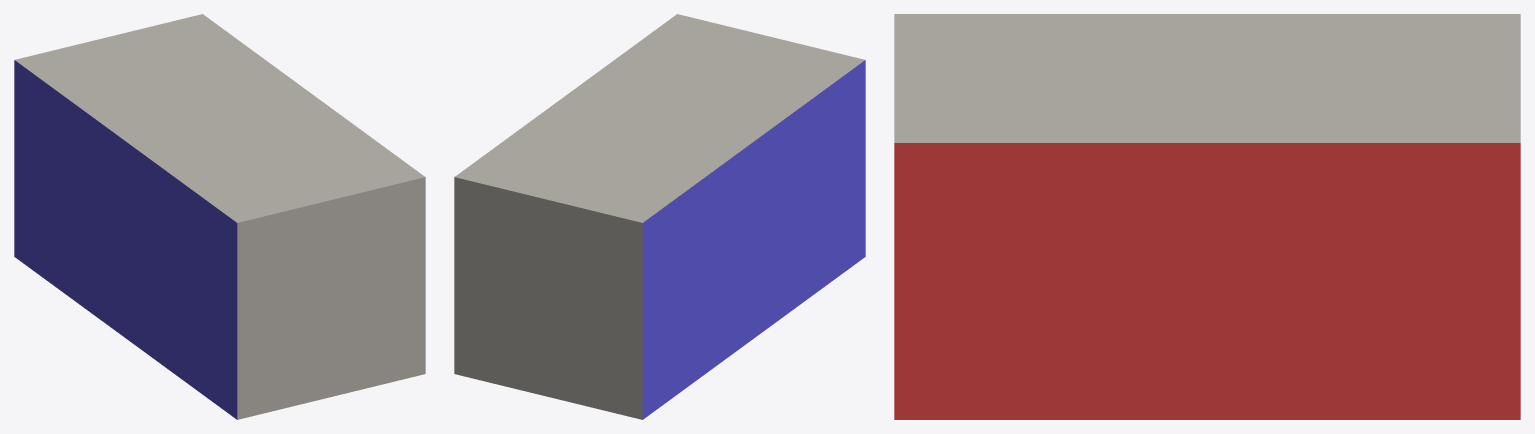
The model's file is tree.obj.
3 renders of one model, left to right at view 1: azimuth 30°, elevation 25°; view 2: azimuth 150°, elevation 25°; view 3: azimuth 270°, elevation 25°, orthographic. The views are drawn at different scales.
Parts seen in each view (by area): view 1: leftWall, ceiling, frontWall; view 2: leftWall, ceiling, backWall; view 3: rightWall, ceiling.
Boxes of the visible parts, x1,y1,x2,y2 form: leftWall: (14, 60, 237, 419); ceiling: (15, 14, 424, 222); frontWall: (237, 177, 425, 419); leftWall: (642, 60, 865, 419); ceiling: (455, 14, 864, 222); backWall: (454, 177, 642, 419); rightWall: (894, 143, 1520, 419); ceiling: (894, 14, 1520, 142).
Bounding box in the file's own units: 2 × 2.01 × 4.1.
